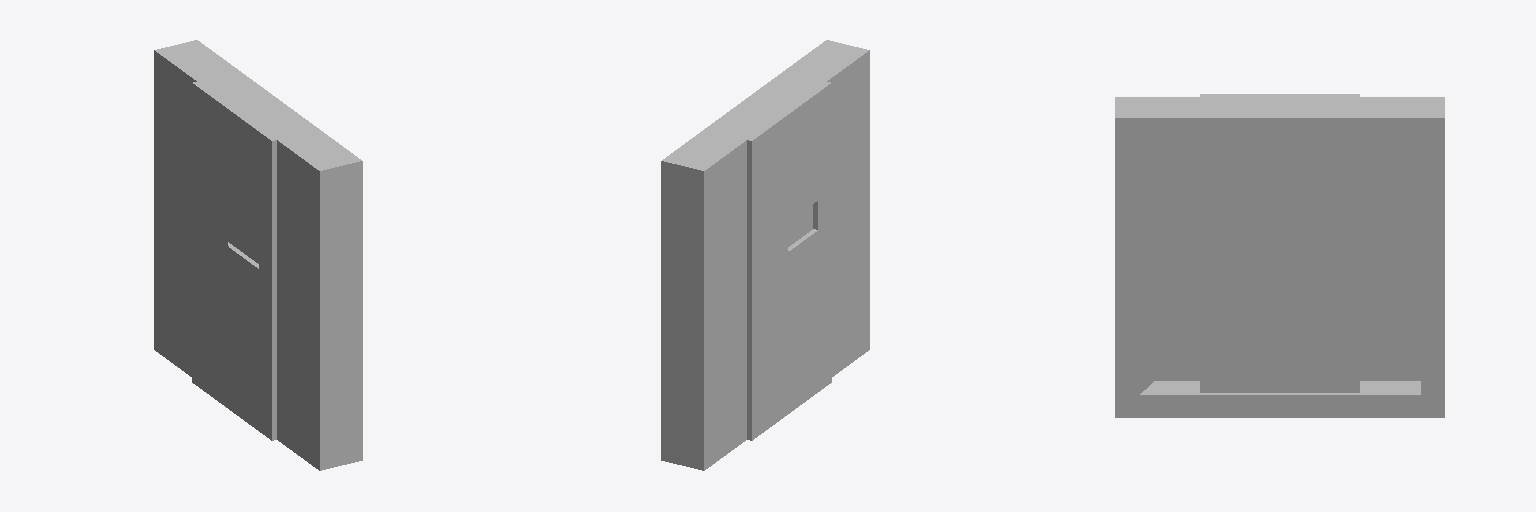
File: door.obj
3 views of the same model, side by side, from view 1: azimuth 30°, elevation 25°; view 2: azimuth 150°, elevation 25°; view 3: azimuth 270°, elevation 25° (orthographic).
Parts seen in each view (by area): view 1: window_Cube, interior_Cube.001; view 2: window_Cube, interior_Cube.001; view 3: window_Cube, interior_Cube.001.
Boxes of the visible parts, box(x1,y1,x2,y2) form: window_Cube: box(154, 40, 362, 470); interior_Cube.001: box(167, 84, 306, 438); window_Cube: box(661, 40, 869, 470); interior_Cube.001: box(717, 82, 856, 438); window_Cube: box(1115, 94, 1444, 417); interior_Cube.001: box(1156, 140, 1420, 380).
Size of the model in its own units: 0.3343 by 2 by 2.